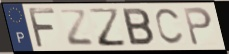B: (120, 7, 156, 47)
C: (154, 7, 186, 47)
F: (26, 6, 57, 49)
P: (181, 6, 214, 48)
Z: (87, 7, 129, 48), (58, 8, 96, 47)
